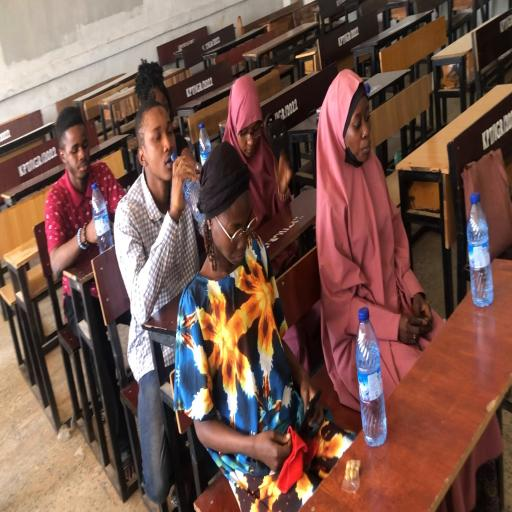Eating: (113, 96, 202, 504)
Usingmobile: (173, 139, 320, 502), (222, 74, 290, 238)
